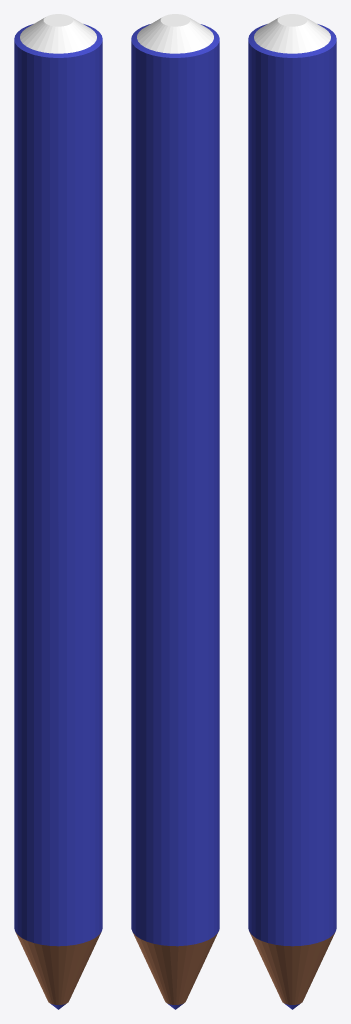
The model's file is lapiz.fbx.
The picture shows the model from 3 angles, left to right: view 1: azimuth 90°, elevation 25°; view 2: azimuth 150°, elevation 25°; view 3: azimuth 270°, elevation 25°; orthographic projection.
Parts seen in each view (by area): view 1: Lapiz; view 2: Lapiz; view 3: Lapiz.
Boxes of the visible parts, box(x1,y1,x2,y2) form: Lapiz: box(14, 14, 102, 1009); Lapiz: box(131, 14, 219, 1009); Lapiz: box(248, 14, 336, 1009).
Bounding box in the file's own units: 200 × 2464 × 200.
Materials: 1 (1 with a texture image).
